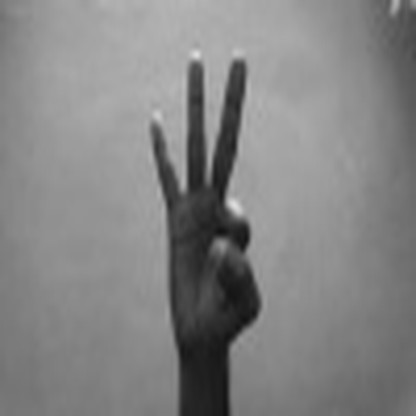f: (139, 41, 279, 349)
